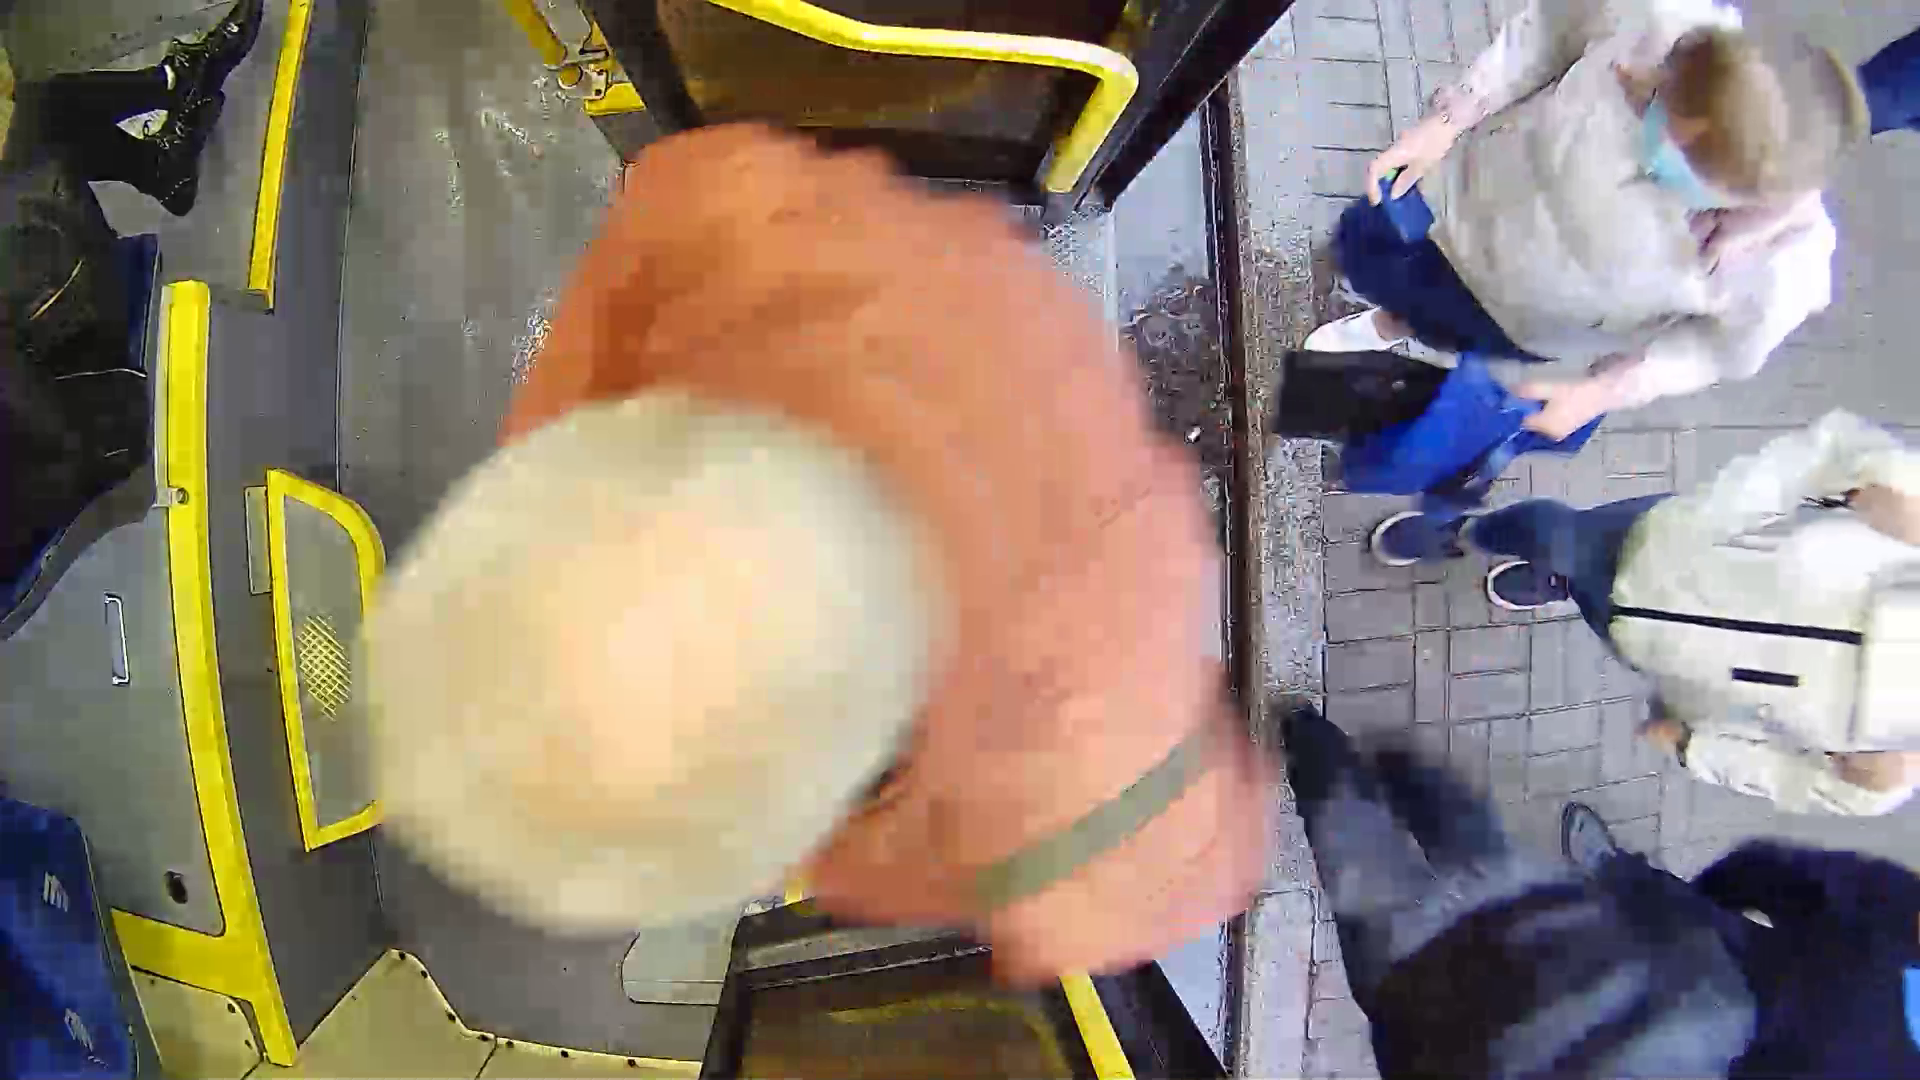person: (356, 132, 1287, 967)
